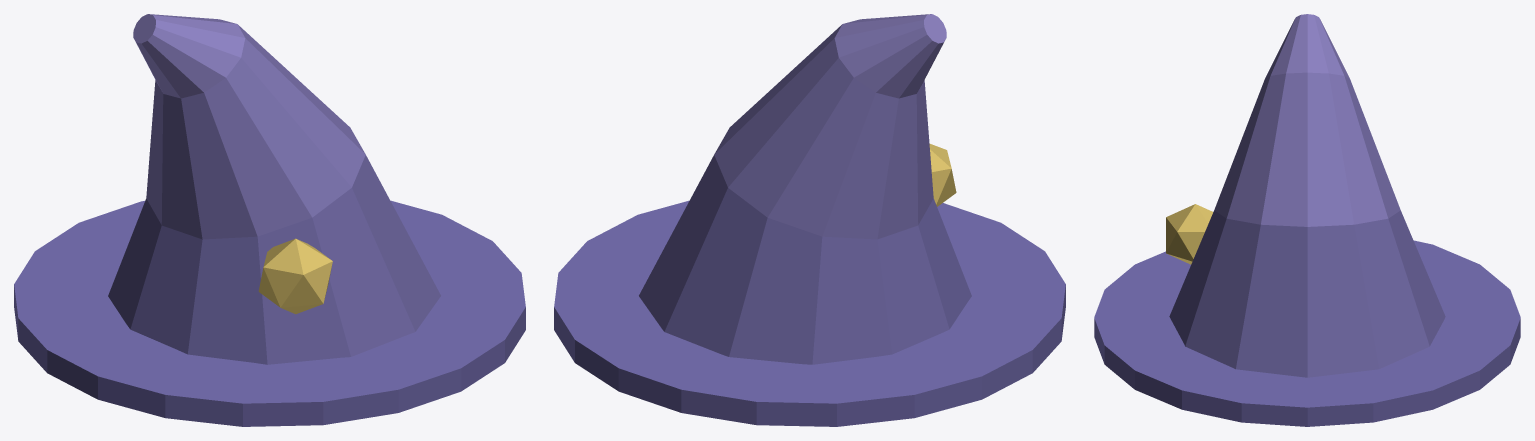
File: goo_jar_hat@starlight.fbx
3 renders of one model, left to right at view 1: azimuth 30°, elevation 25°; view 2: azimuth 150°, elevation 25°; view 3: azimuth 270°, elevation 25°, orthographic. The views are drawn at different scales.
Visible parts, largest first — view 1: goo_jar_hat; view 2: goo_jar_hat; view 3: goo_jar_hat.
Part boxes in pixels (x1,y1,x2,y2): goo_jar_hat: [14, 14, 525, 426]; goo_jar_hat: [554, 14, 1065, 426]; goo_jar_hat: [1094, 14, 1520, 426].
Bounding box in the file's own units: 1.6 × 1.19 × 1.6.
